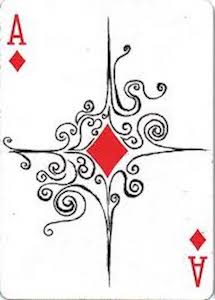AceOfDiamonds: (1, 1, 213, 299)
